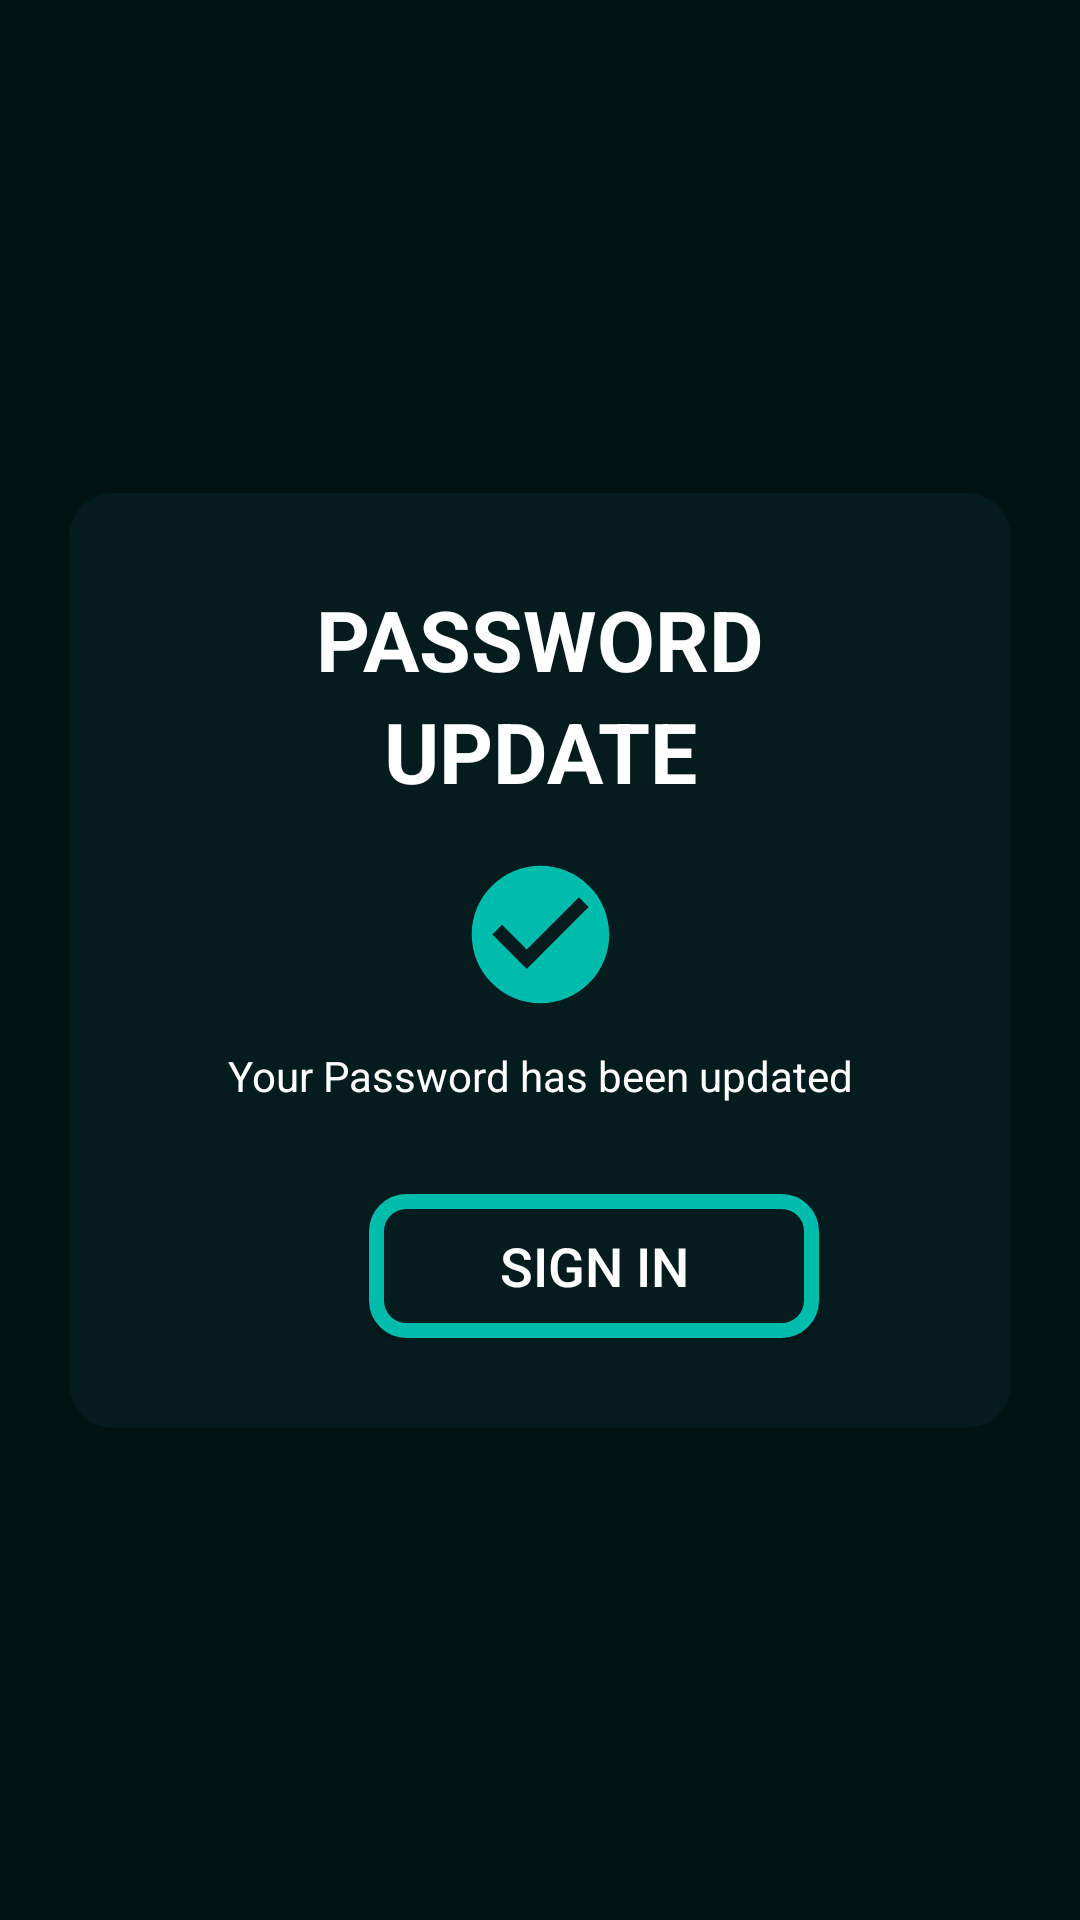

Icons on this 1080px x 1920px Android screen, each with its box as (x1, y1, x2, y2):
check circle: (471, 865, 610, 1004)
